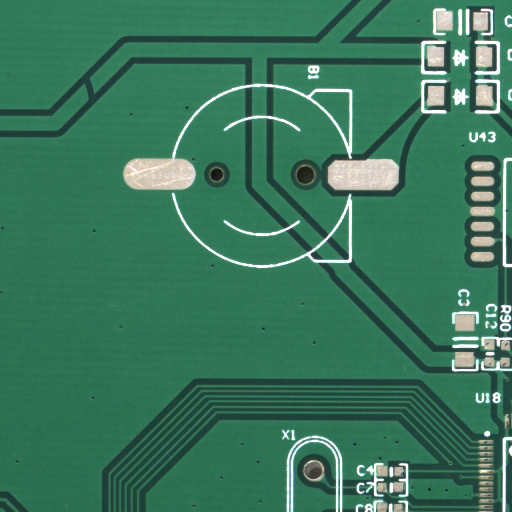Open_circuit: (89, 87, 105, 118)
